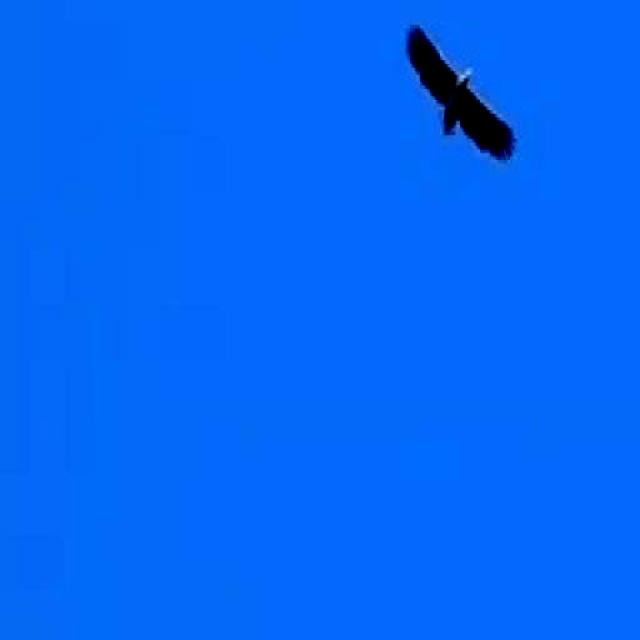airplane: (389, 10, 531, 189)
